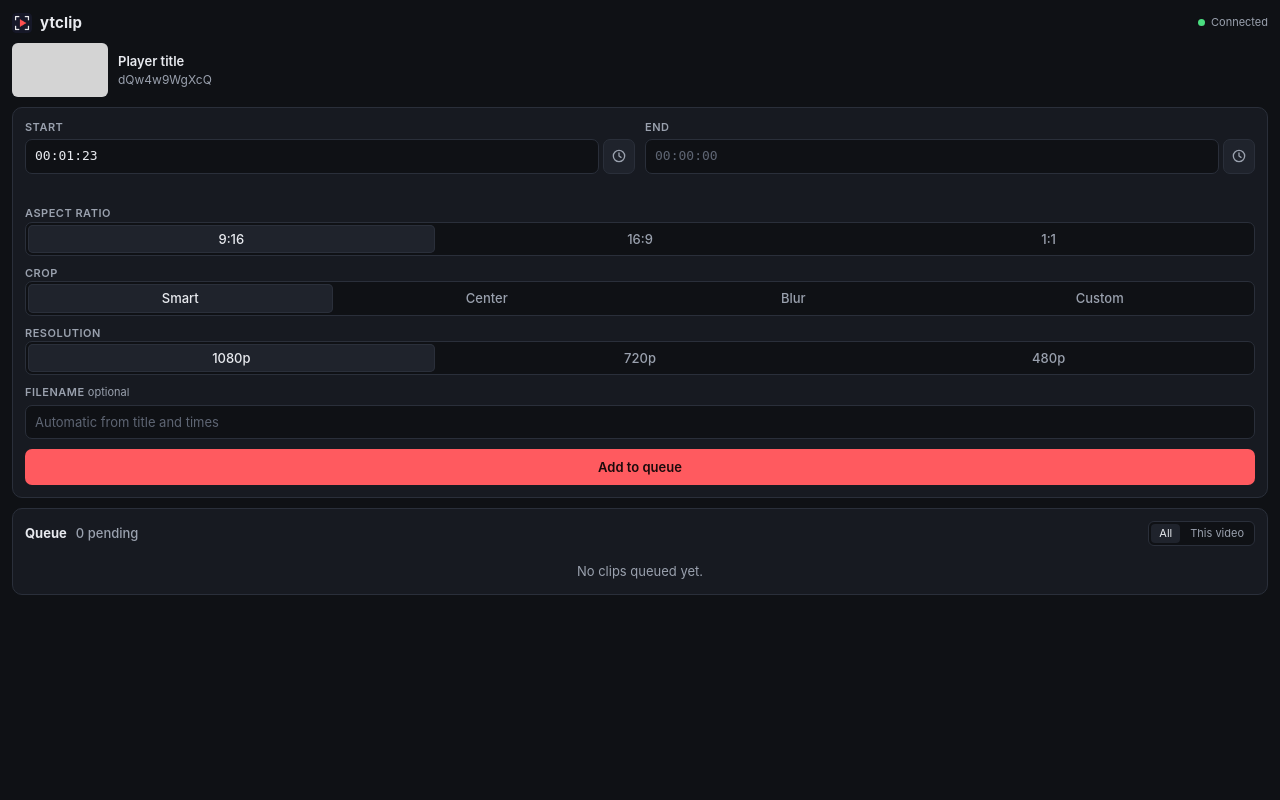
Scenario: App › prefills the start time from the player and queues a clip
Expected: the field labelled "Start" holds "00:01:23", top-left (25, 139), bottom-right (599, 174)
Expected: the text "Player title" is shown, top-left (118, 52), bottom-right (184, 68)
Type "00:01:40" into the field labelled "End" at (932, 156), box top-left (645, 139), bottom-right (1219, 174)
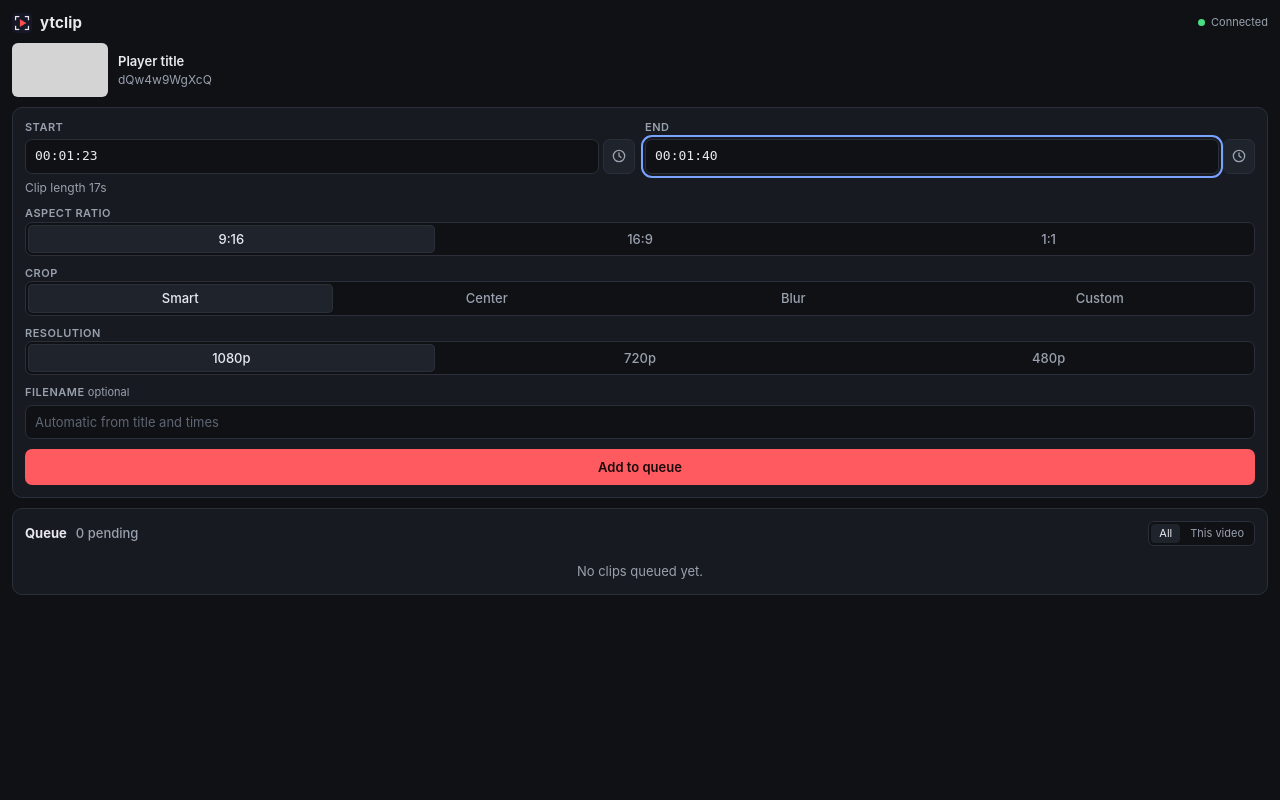
Click the radio button labelled "1:1" at (1049, 239), box top-left (1041, 231), bottom-right (1056, 247)
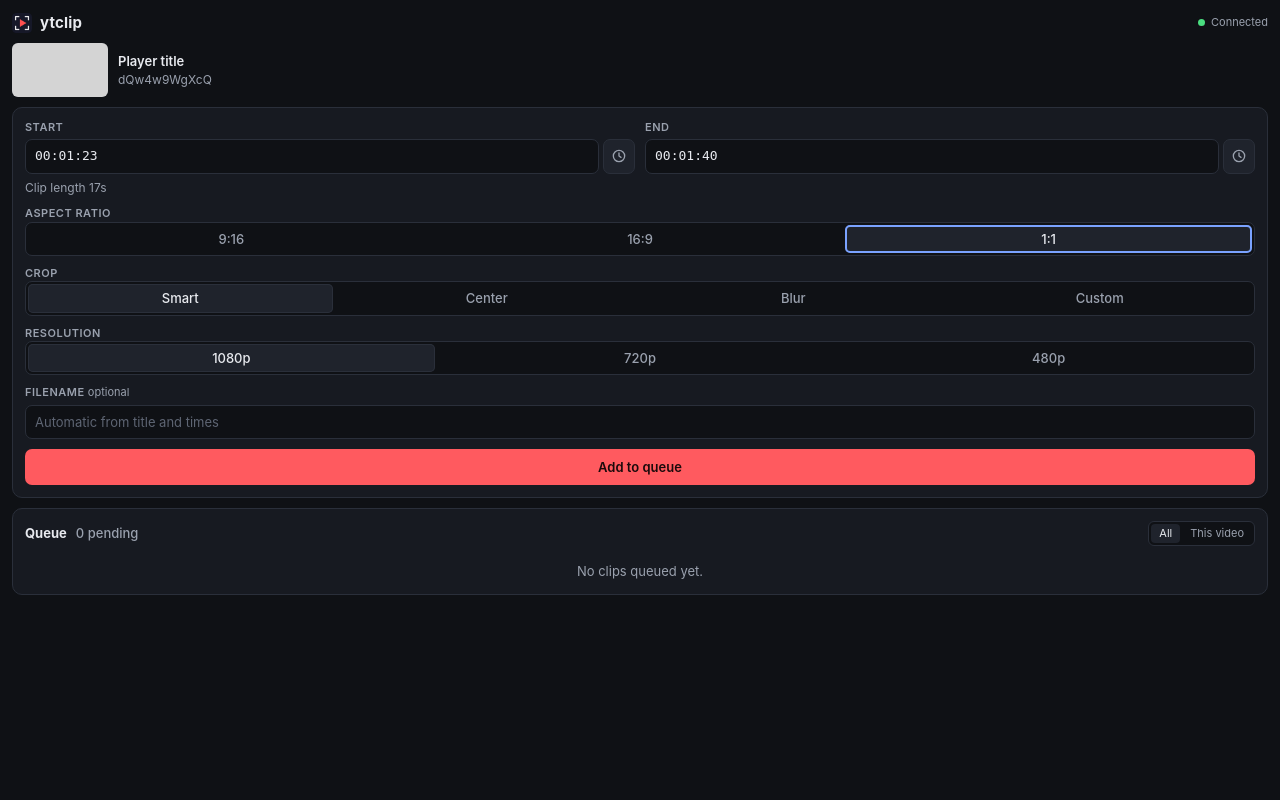
Click the button "Add to queue" at (640, 467), box top-left (25, 449), bottom-right (1255, 485)
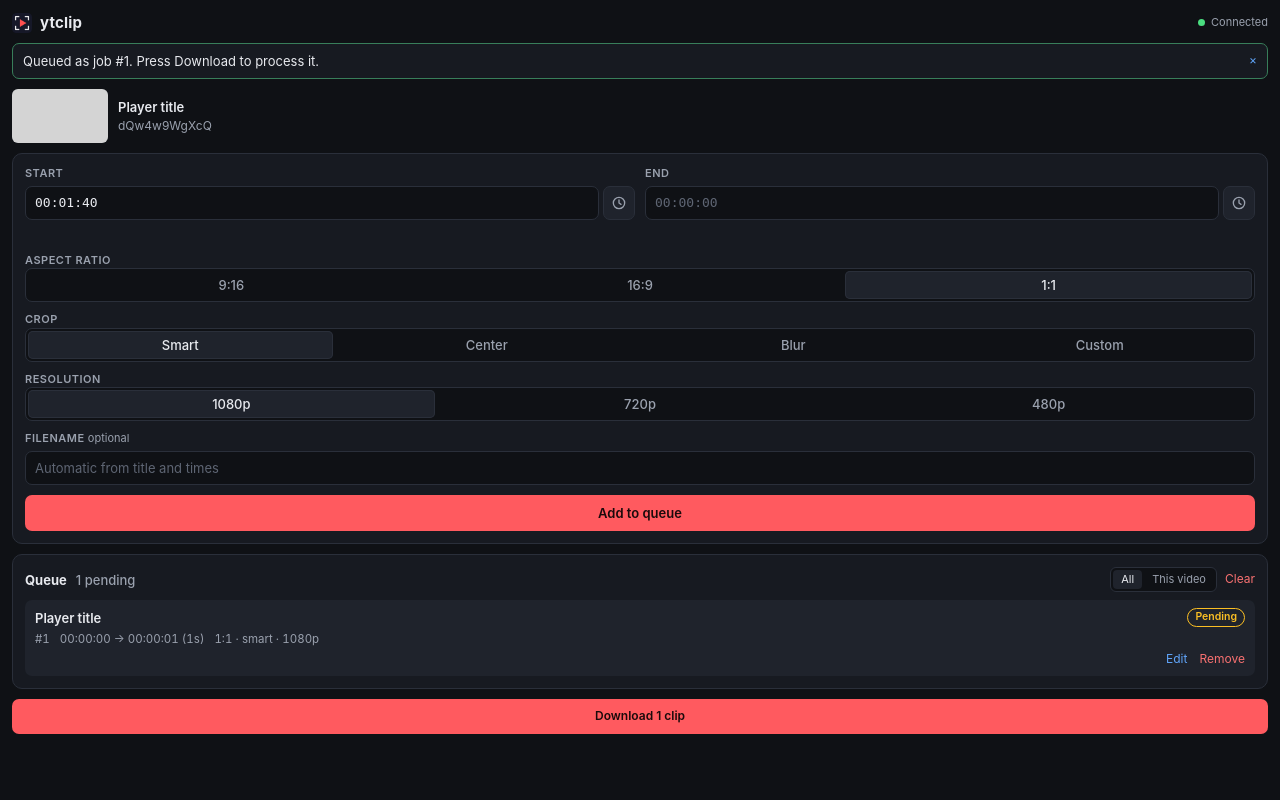
Expected: the text "Queued as job #1. Press Download to process it." is shown, top-left (23, 52), bottom-right (319, 70)
Expected: the field labelled "Start" holds "00:01:40", top-left (25, 186), bottom-right (599, 220)
